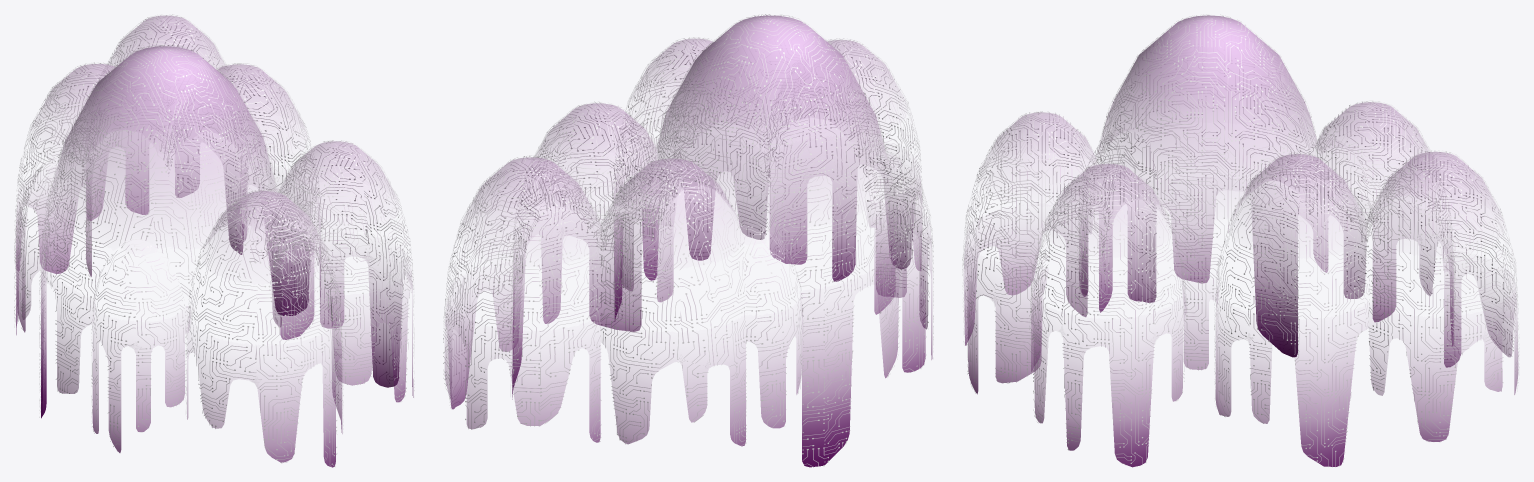
Rendered from pantheon.glb.
3 views of the same model, side by side, from view 1: azimuth 30°, elevation 25°; view 2: azimuth 150°, elevation 25°; view 3: azimuth 270°, elevation 25° (orthographic). The views are drawn at different scales.
Parts seen in each view (by area): view 1: Dome01_Art; view 2: Dome01_Art; view 3: Dome01_Art.
Boxes of the visible parts, x1,y1,x2,y2 form: Dome01_Art: (14, 14, 414, 467); Dome01_Art: (443, 14, 933, 467); Dome01_Art: (962, 14, 1519, 467).
Bounding box in the file's own units: 27.63 × 33 × 44.26.
Materials: 2 (2 with a texture image).
